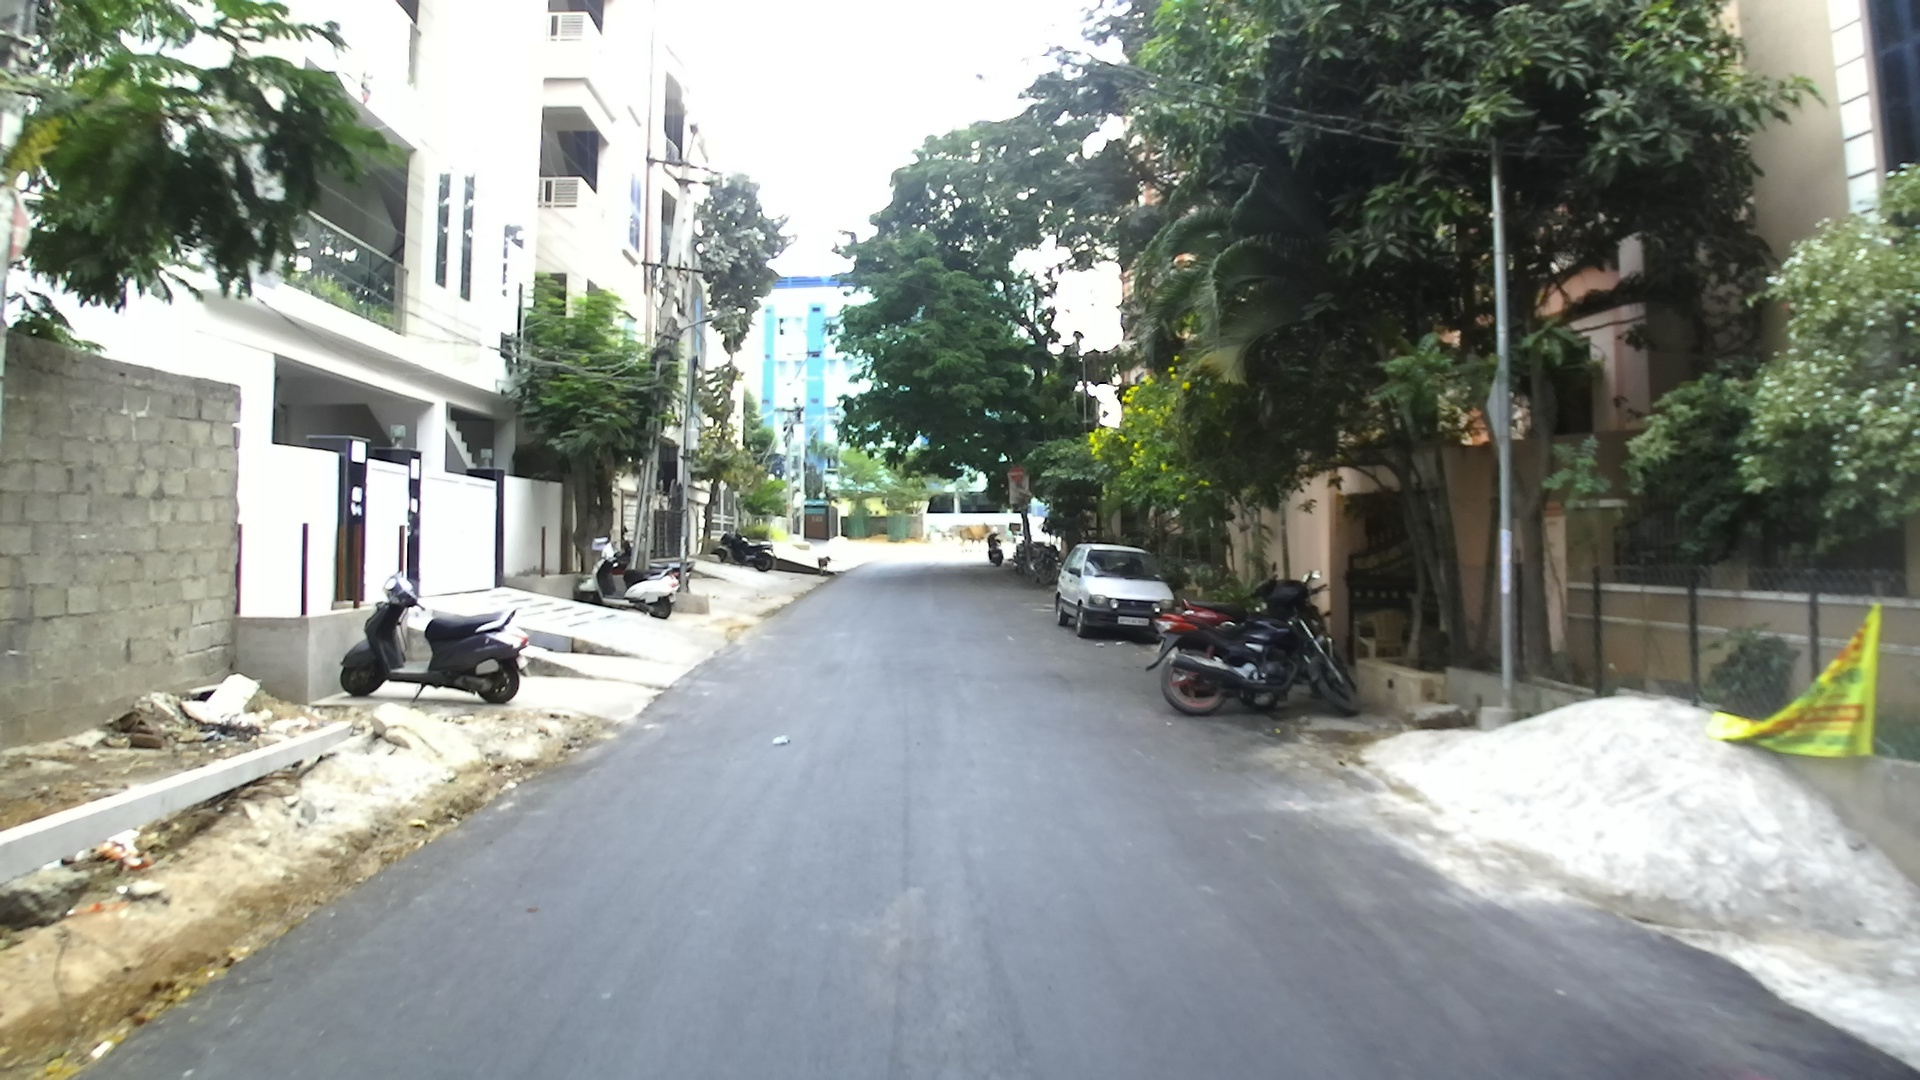vehicle: (1156, 579, 1357, 717), (338, 572, 527, 707), (1054, 545, 1176, 641)
